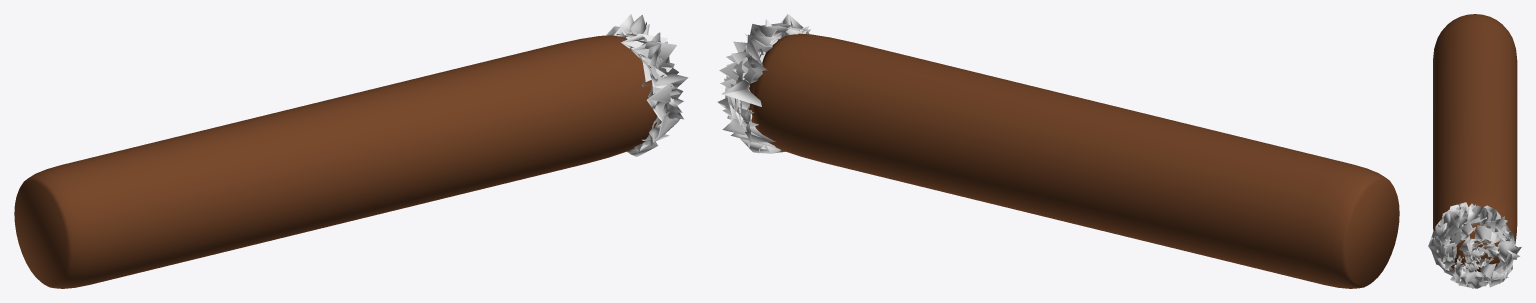
File: Cigar.fbx
The picture shows the model from 3 angles, left to right: view 1: azimuth 30°, elevation 25°; view 2: azimuth 150°, elevation 25°; view 3: azimuth 270°, elevation 25°; orthographic projection. The views are drawn at different scales.
Visible parts, largest first — view 1: Cylinder, Cylinder.001, Cylinder.003, Cylinder.004; view 2: Cylinder, Cylinder.001, Cylinder.003, Cylinder.004; view 3: Cylinder, Cylinder.001, Cylinder.003, Cylinder.004.
Part boxes in pixels (x1,y1,x2,y2): Cylinder: (14,35,657,288); Cylinder.001: (607,15,688,152); Cylinder.003: (613,14,682,156); Cylinder.004: (606,24,686,150); Cylinder: (749,33,1399,288); Cylinder.001: (717,14,810,153); Cylinder.003: (720,25,809,153); Cylinder.004: (723,14,803,153); Cylinder: (1433,14,1517,272); Cylinder.001: (1428,205,1521,288); Cylinder.003: (1436,202,1519,286); Cylinder.004: (1429,209,1521,279).
Size of the model in its own units: 1586 by 303 by 296.
